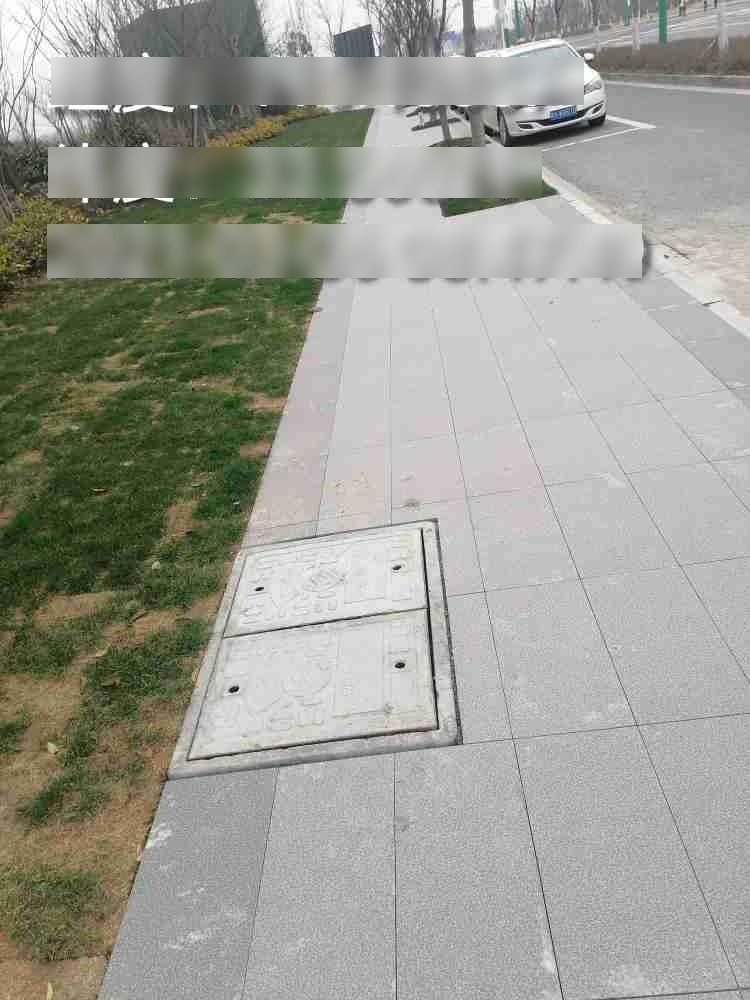well: (170, 514, 458, 774)
